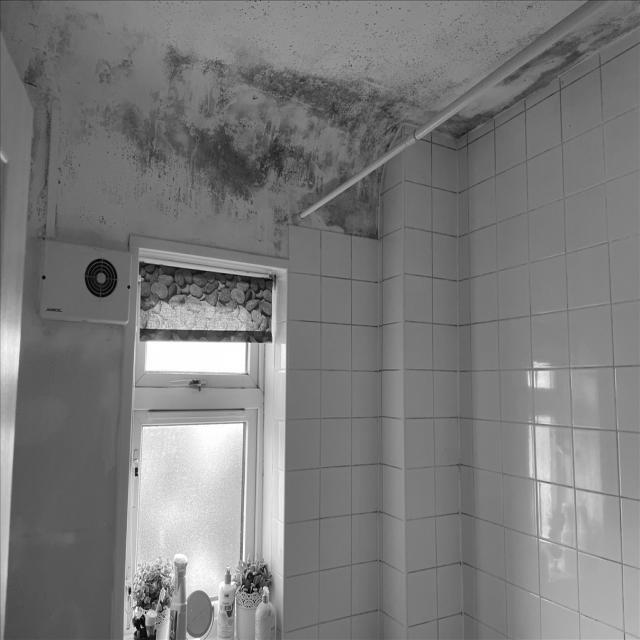stain marks: (0, 0, 640, 266)
